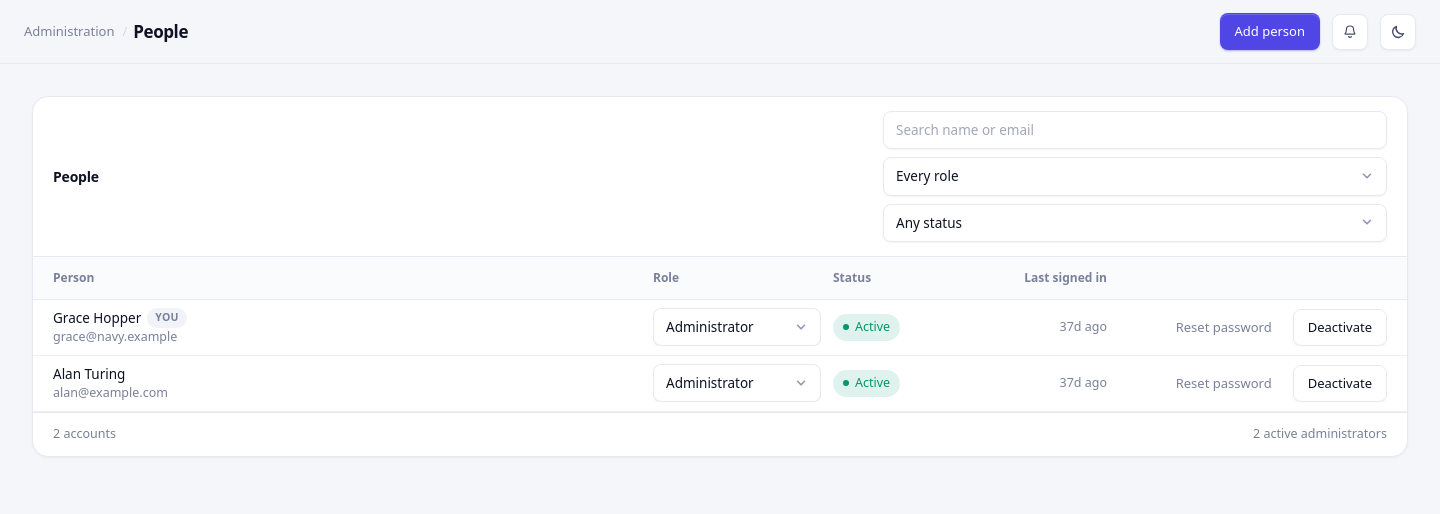
Scenario: changing an account › reports a refusal on the row instead of failing silently
This screenshot has width=1440, height=514.
Expected: the text "Alan Turing" is shown, [53, 364, 125, 384]
Click the button "Deactivate" in the row of "Alan Turing": click(1340, 383) [1293, 364, 1387, 402]
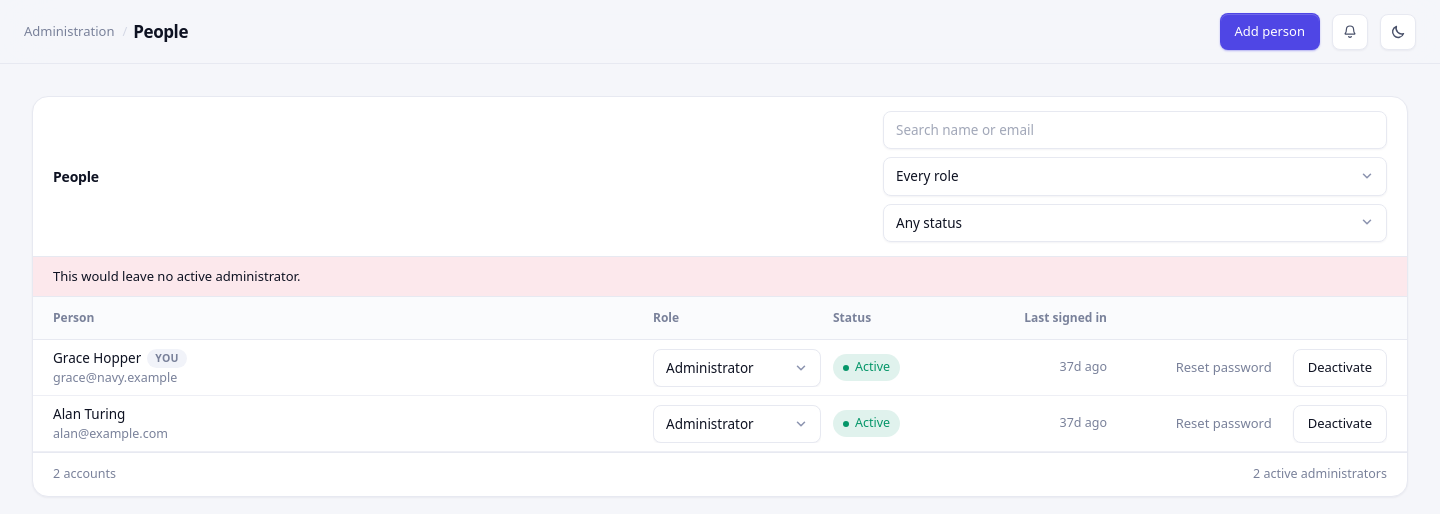
Now the text "This would leave no active administrator." is shown, box [33, 257, 1407, 297]
